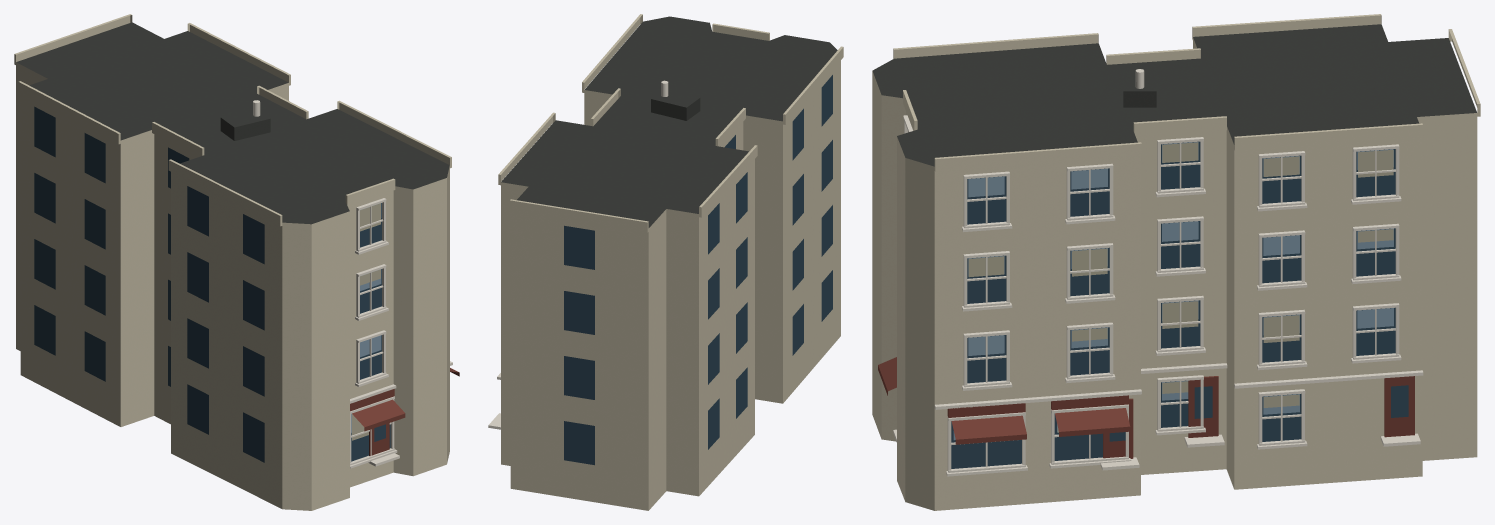
3 renders of one model, left to right at view 1: azimuth 30°, elevation 25°; view 2: azimuth 150°, elevation 25°; view 3: azimuth 270°, elevation 25°, orthographic. The views are drawn at different scales.
Visible parts, largest first — view 1: Footprint 0 / surface 2, Footprint 0 / surface 1, Inset glazing, Facade bay volumes, Cornices and window frames, Storefronts and doors, Interior blind variation, Inferred rooftop service enclosure / surface 5; view 2: Footprint 0 / surface 2, Footprint 0 / surface 1, Inset glazing, Facade bay volumes, Inferred rooftop service enclosure / surface 6, Inferred rooftop service enclosure / surface 3; view 3: Footprint 0 / surface 2, Footprint 0 / surface 1, Cornices and window frames, Inset glazing, Facade bay volumes, Storefronts and doors, Interior blind variation, Sky reflection panels.
Part boxes in pixels (x1,y1,x2,y2): Footprint 0 / surface 2: (16, 62, 449, 510); Footprint 0 / surface 1: (16, 22, 449, 224); Inset glazing: (34, 106, 390, 462); Facade bay volumes: (14, 14, 451, 226); Cornices and window frames: (350, 198, 452, 468); Storefronts and doors: (350, 368, 459, 455); Interior blind variation: (352, 203, 380, 440); Inferred rooftop service enclosure / surface 5: (234, 118, 270, 140); Footprint 0 / surface 2: (501, 60, 840, 510); Footprint 0 / surface 1: (501, 16, 837, 227); Inset glazing: (564, 75, 832, 465); Facade bay volumes: (498, 14, 843, 232); Inferred rooftop service enclosure / surface 6: (651, 99, 686, 120); Inferred rooftop service enclosure / surface 3: (651, 90, 699, 107); Footprint 0 / surface 2: (872, 37, 1477, 510); Footprint 0 / surface 1: (872, 24, 1476, 166); Cornices and window frames: (893, 115, 1423, 476); Inset glazing: (951, 141, 1408, 468); Facade bay volumes: (893, 14, 1480, 171); Storefronts and doors: (878, 357, 1414, 458); Interior blind variation: (908, 131, 1393, 432); Sky reflection panels: (953, 142, 1393, 440).
Size of the model in its own units: 13.16 by 14.95 by 21.85.
